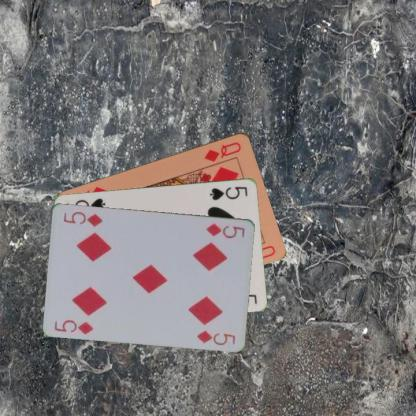5d: (52, 316, 95, 336), (204, 220, 246, 240)
5s: (207, 183, 249, 201)
Qd: (202, 139, 242, 163)
